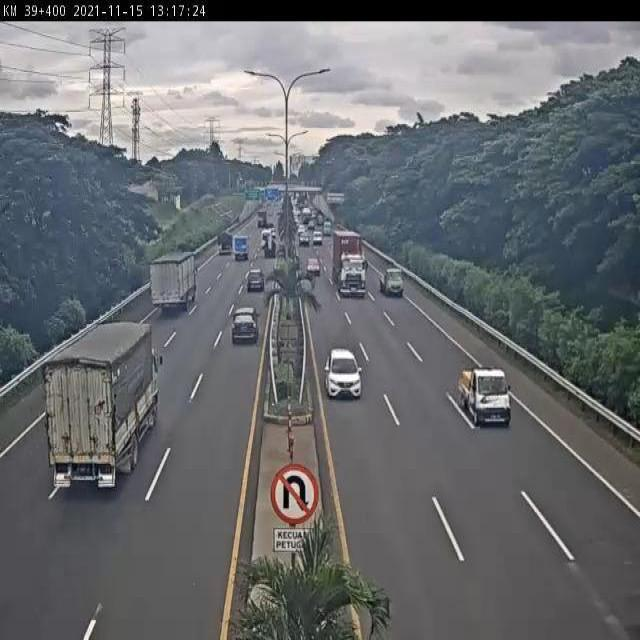car: (325, 349, 362, 399), (230, 308, 260, 347), (305, 256, 322, 277), (247, 268, 264, 289)
truck: (44, 322, 160, 490), (458, 367, 512, 427), (151, 251, 198, 312), (332, 231, 367, 299), (377, 264, 409, 300)
